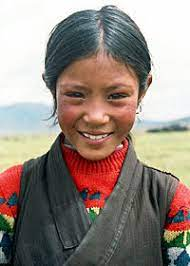person: (44, 4, 153, 162)
